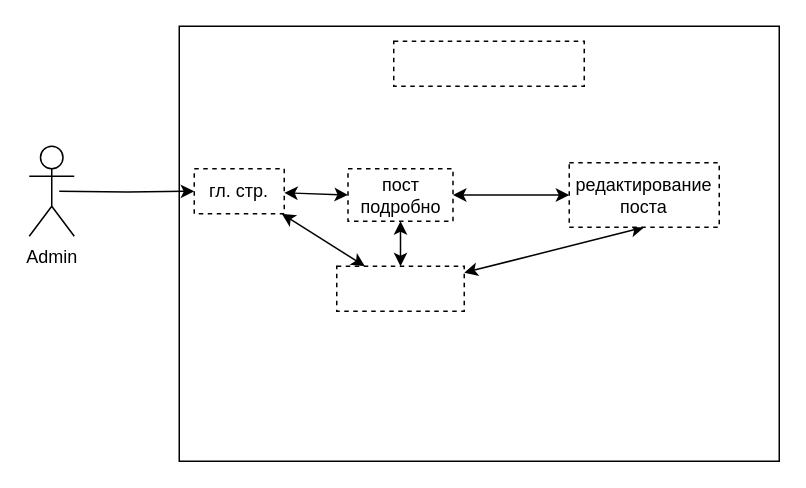
The diagram is 806 pixels wide and 488 high, and some of its shapes have lost their labels. Here are the shapes that lost their labels. From the top down, the centre of each, then its label:
At (x=488, y=63): "подтверждение постов(header)".
At (x=399, y=288): "профиль пользоват.".
